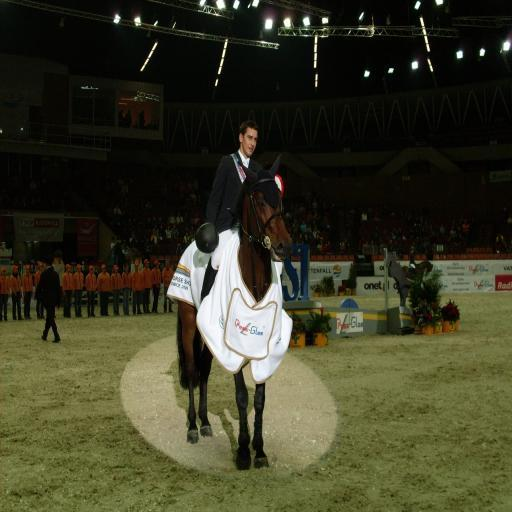horse: (176, 150, 294, 471)
